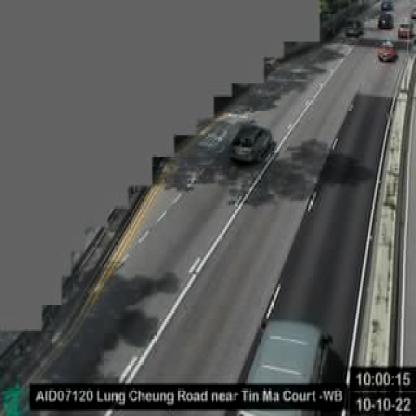Car: (230, 314, 332, 407), (229, 122, 272, 167), (378, 41, 398, 64), (345, 17, 362, 36), (377, 13, 394, 28), (399, 20, 413, 38)
